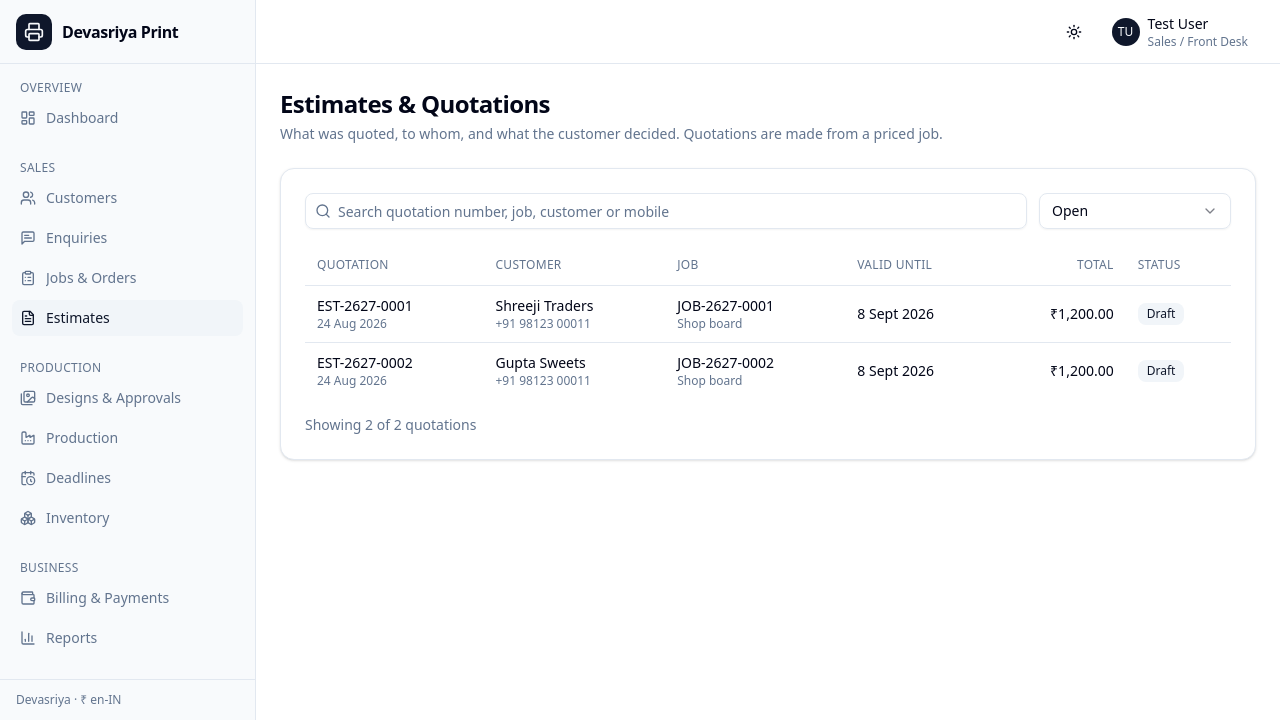
the directory › searches by customer, job or quotation number
Type "gupta" into the field named "search quotations" at (666, 211), box [305, 193, 1027, 229]
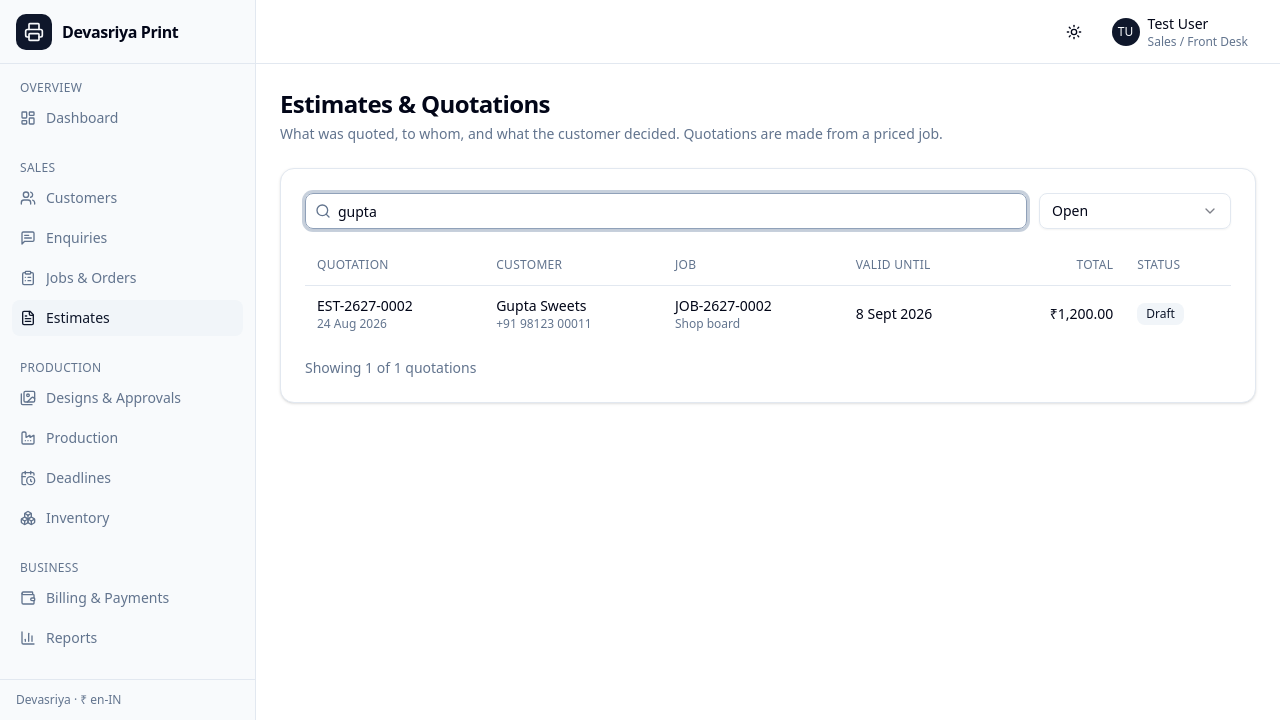
Expected: the link "EST-2627-0002" is shown, [317, 296, 413, 314]
Expected: the link "EST-2627-0001" is gone
